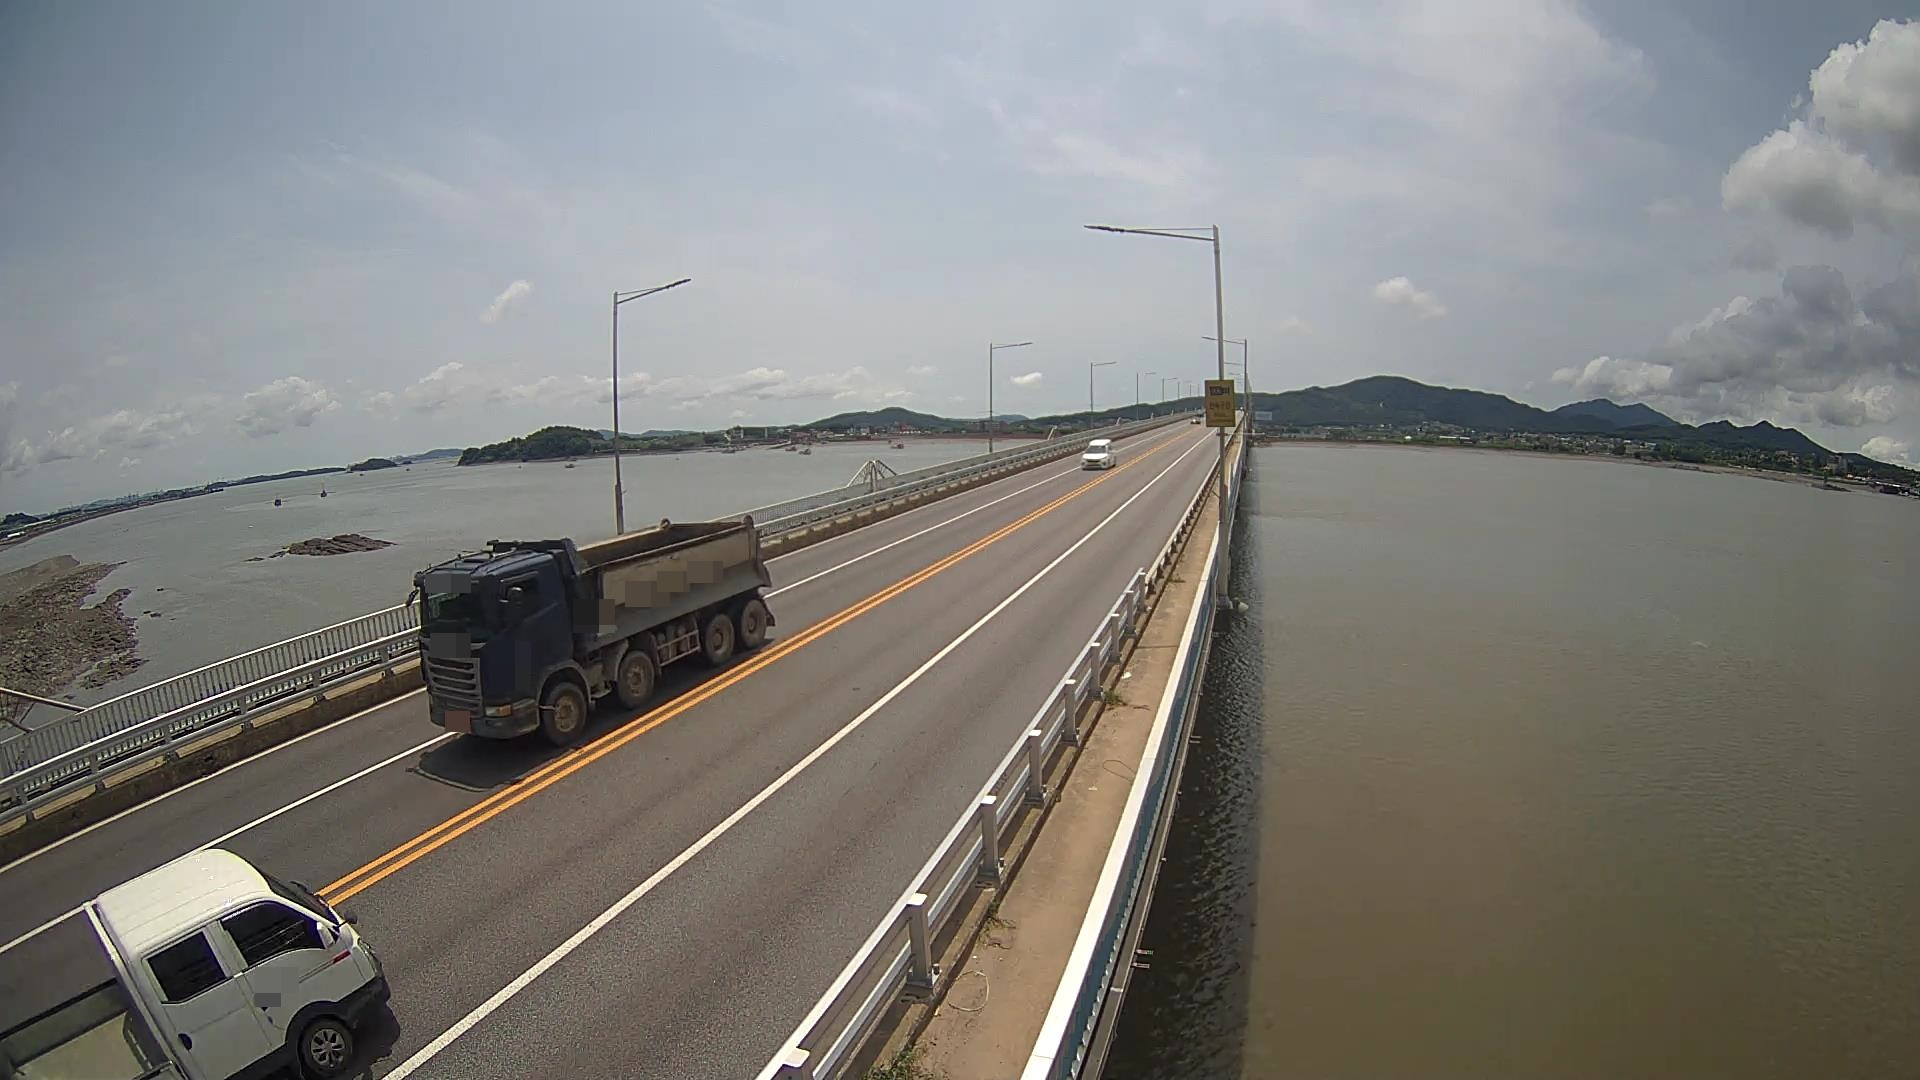정상차량: (406, 514, 777, 744)
